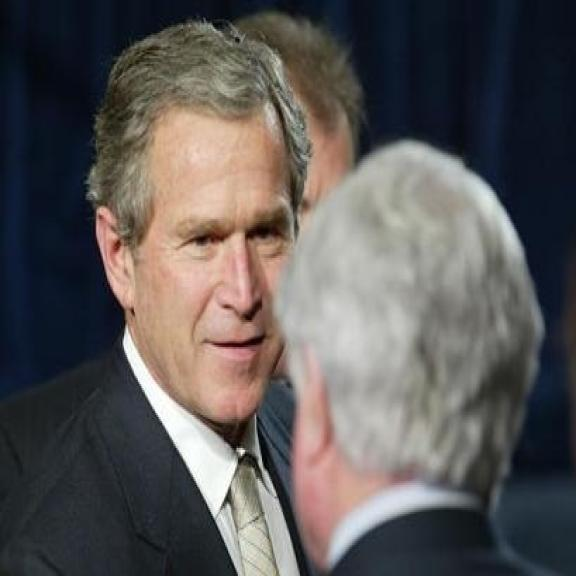face: (85, 22, 300, 428)
